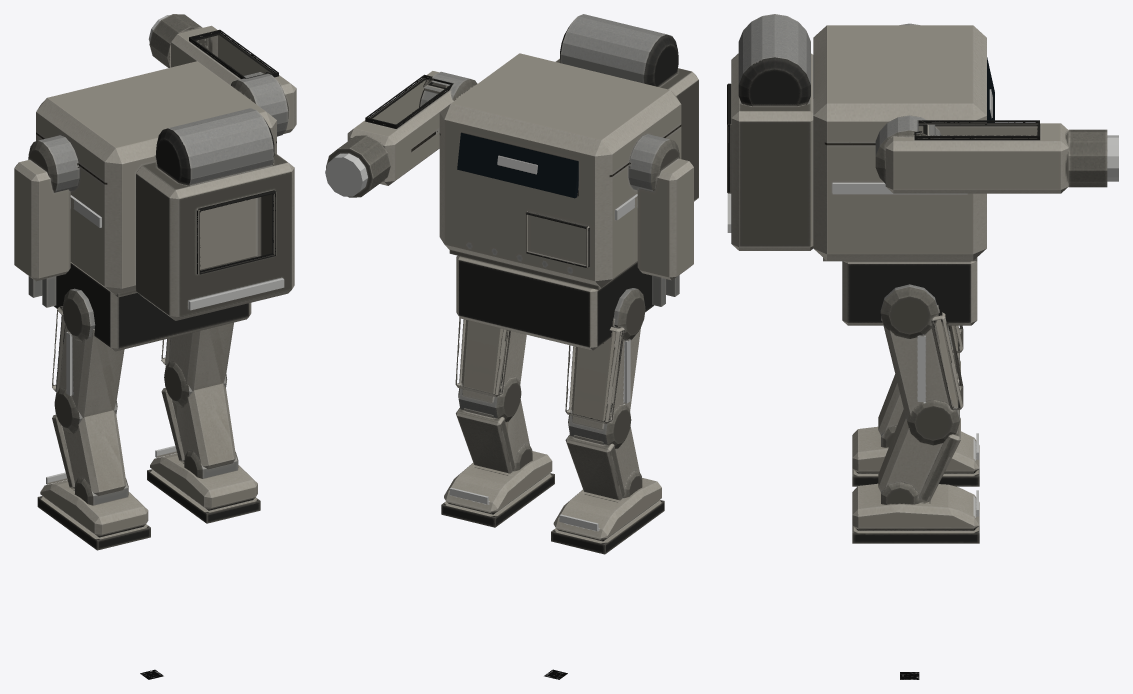
File: ord_artisan.fbx
The picture shows the model from 3 angles, left to right: view 1: azimuth 30°, elevation 25°; view 2: azimuth 150°, elevation 25°; view 3: azimuth 270°, elevation 25°; orthographic projection. The views are drawn at different scales.
Visible parts, largest first — view 1: base_bar, nano_bar, thighL_bar, shinR_bar, shinL_bar, footL_bar, footR_bar, thighR_bar, base_glow_power_bar, thighL_glow_running_bar; view 2: base_bar, nano_bar, thighL_bar, thighR_bar, footR_bar, footL_bar, shinR_bar, shinL_bar, nano_glow_power_bar; view 3: base_bar, nano_bar, thighR_bar, footR_bar, shinR_bar, footL_bar, shinL_bar, base_glow_running_bar, thighR_glow_running_bar.
Boxes of the visible parts, x1,y1,x2,y2 form: base_bar: (14, 61, 294, 351); nano_bar: (149, 14, 296, 136); thighL_bar: (52, 288, 124, 433); shinR_bar: (161, 383, 238, 478); shinL_bar: (52, 410, 128, 505); footL_bar: (37, 480, 150, 550); footR_bar: (147, 453, 260, 523); thighR_bar: (161, 322, 233, 406); base_glow_power_bar: (188, 278, 284, 310); thighL_glow_running_bar: (66, 331, 72, 395); base_bar: (439, 14, 698, 350); nano_bar: (326, 71, 477, 197); thighL_bar: (565, 288, 645, 448); thighR_bar: (455, 317, 526, 421); footR_bar: (441, 451, 554, 527); footL_bar: (551, 478, 664, 554); shinR_bar: (456, 399, 532, 473); shinL_bar: (565, 426, 642, 499); nano_glow_power_bar: (325, 153, 367, 196); base_bar: (727, 14, 994, 325); nano_bar: (875, 115, 1107, 193); thighR_bar: (880, 284, 963, 445); footR_bar: (852, 483, 979, 543); shinR_bar: (878, 409, 960, 504); footL_bar: (852, 426, 979, 486); shinL_bar: (878, 360, 960, 447); base_glow_running_bar: (832, 182, 967, 194); thighR_glow_running_bar: (917, 335, 925, 401).
Size of the model in its own units: 340 by 733 by 406.
2 materials, 2 textured.
